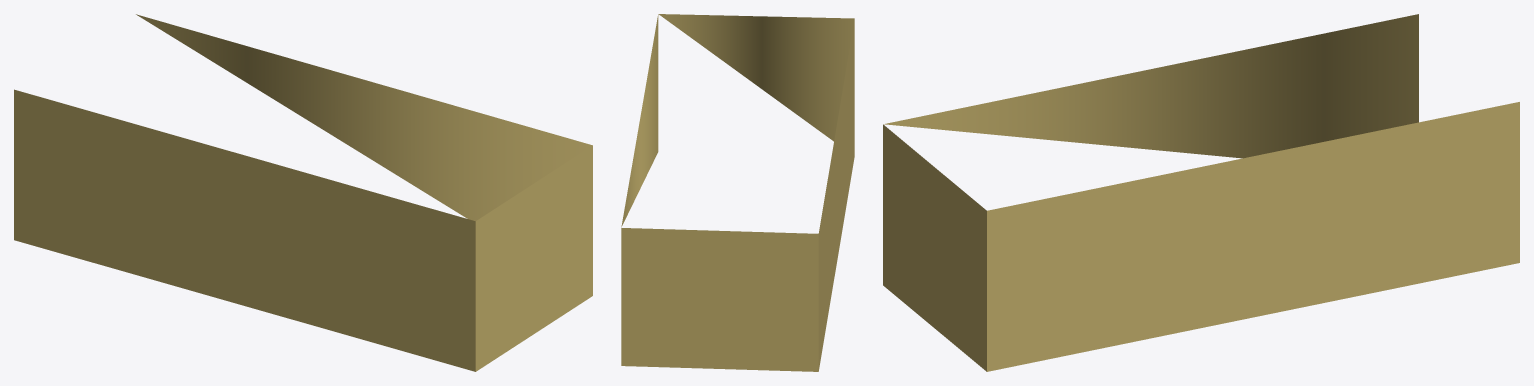
The picture shows the model from 3 angles, left to right: view 1: azimuth 30°, elevation 25°; view 2: azimuth 150°, elevation 25°; view 3: azimuth 270°, elevation 25°; orthographic projection. The views are drawn at different scales.
Size of the model in its own units: 32.72 by 12.5 by 44.75.
